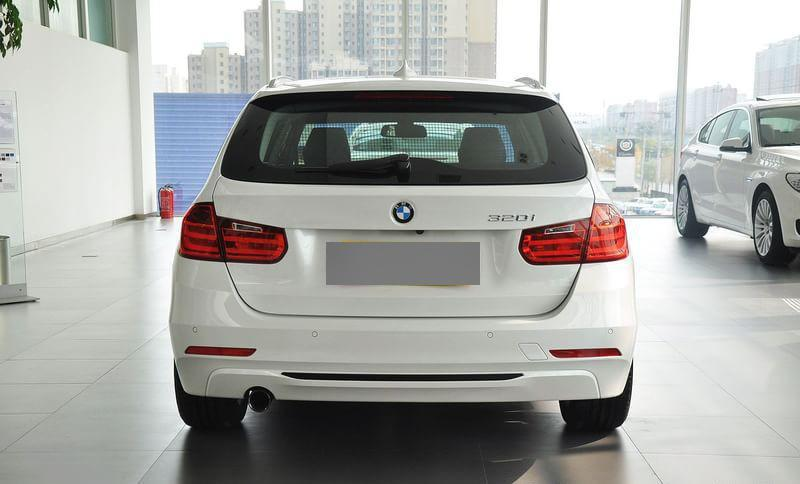Wagon: (168, 58, 639, 433)
